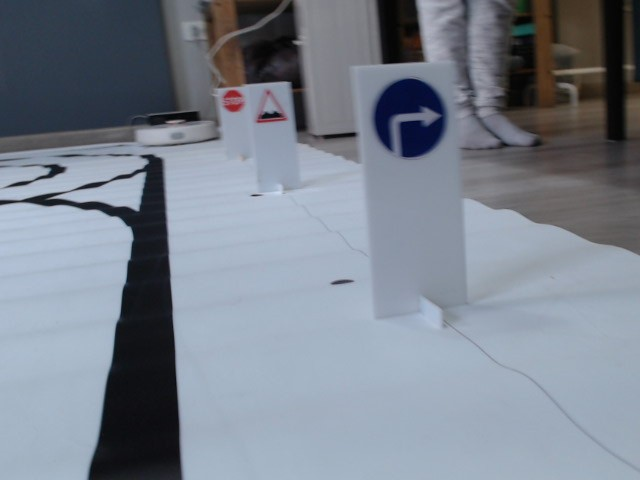Nerov: (254, 88, 291, 124)
Right: (369, 75, 449, 162)
Stop: (221, 88, 245, 114)
